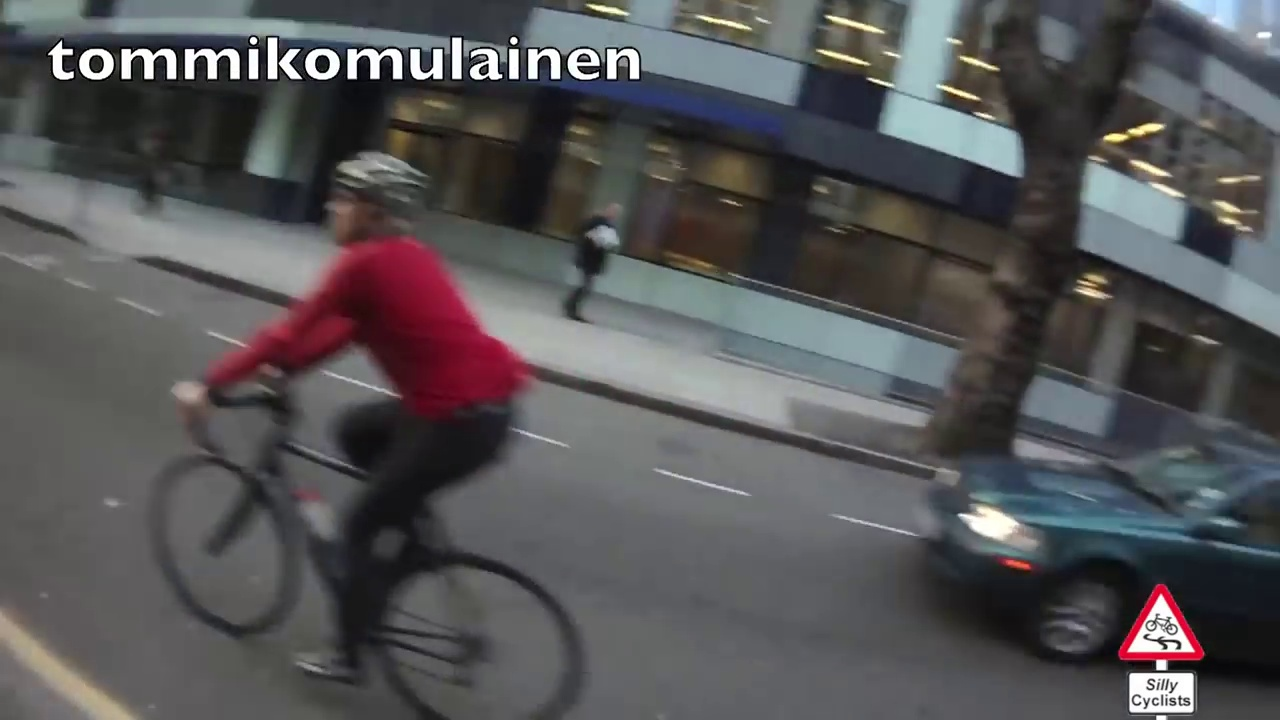cyclist_side: (137, 146, 595, 712)
